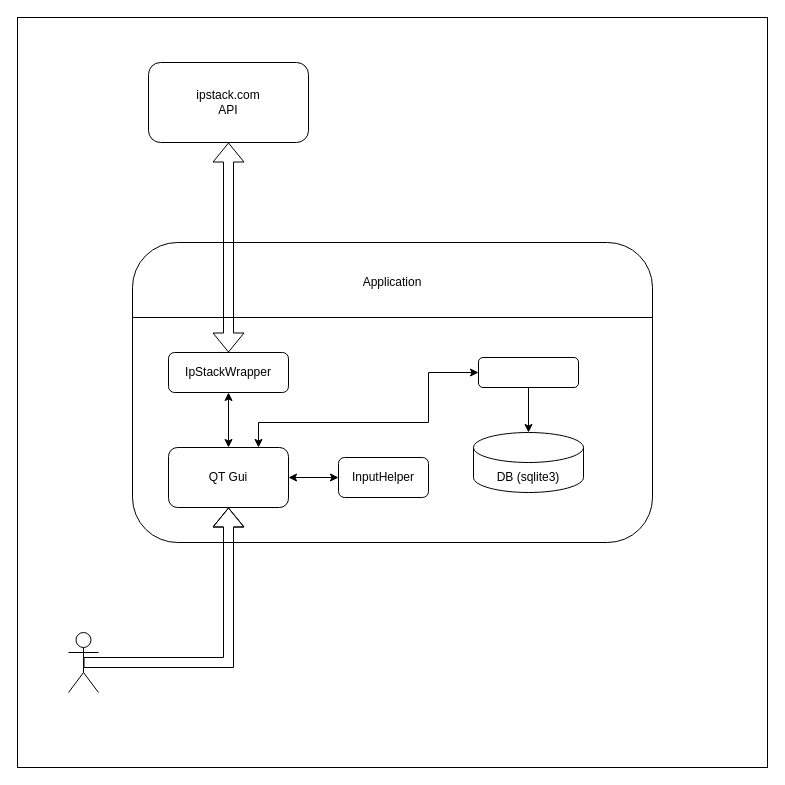
Some shapes in this 785 by 785 pixel diagram are drawn without their labels. The box of each missing label's shape, as (x1, y1, x2, y2) in pixels:
DbHandler: (478, 356, 578, 388)
User: (68, 632, 98, 692)
